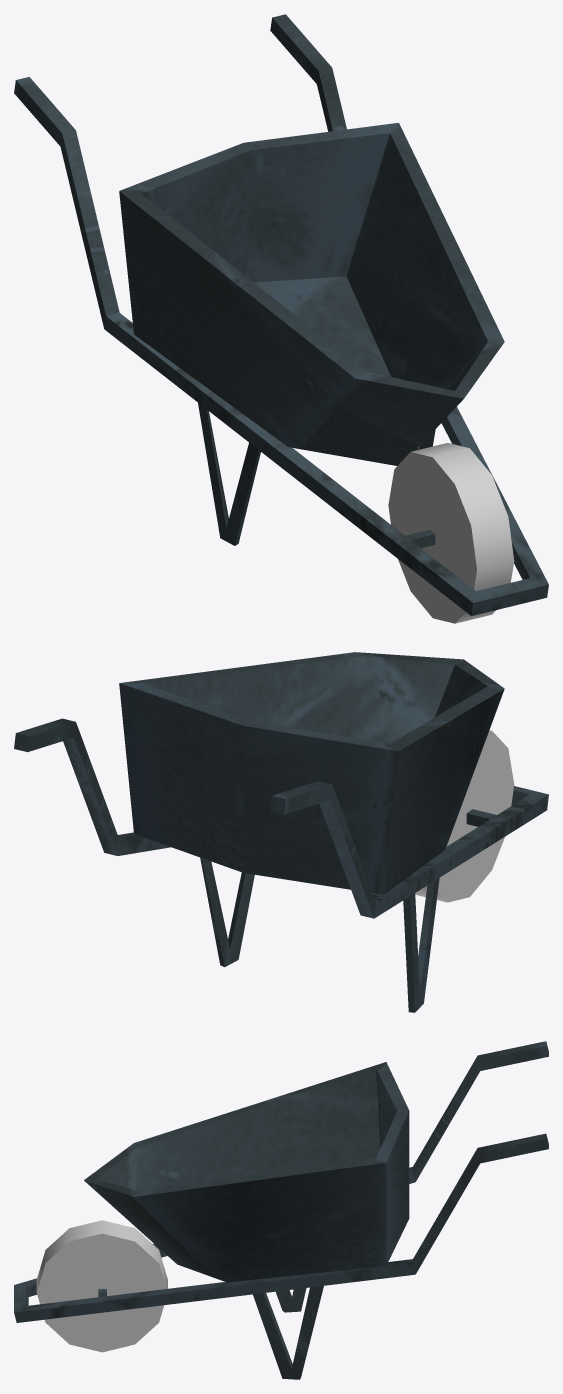
File: Wheelbarrow.fbx
3 renders of one model, top to bottom at view 1: azimuth 30°, elevation 25°; view 2: azimuth 150°, elevation 25°; view 3: azimuth 270°, elevation 25°, orthographic. The views are drawn at different scales.
Parts seen in each view (by area): view 1: Wheelbarrow; view 2: Wheelbarrow; view 3: Wheelbarrow.
Boxes of the visible parts, x1,y1,x2,y2 form: Wheelbarrow: (14, 14, 548, 623); Wheelbarrow: (14, 652, 548, 1012); Wheelbarrow: (14, 1041, 548, 1379).
Bounding box in the file's own units: 148 × 176 × 333.
